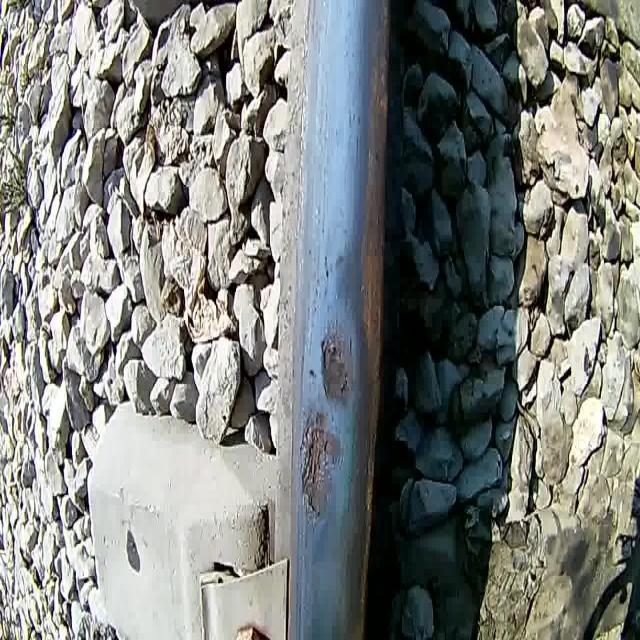Spallings: (297, 409, 333, 520), (320, 333, 346, 373), (339, 371, 352, 398)
Squats: (293, 400, 346, 529), (316, 319, 360, 406)
